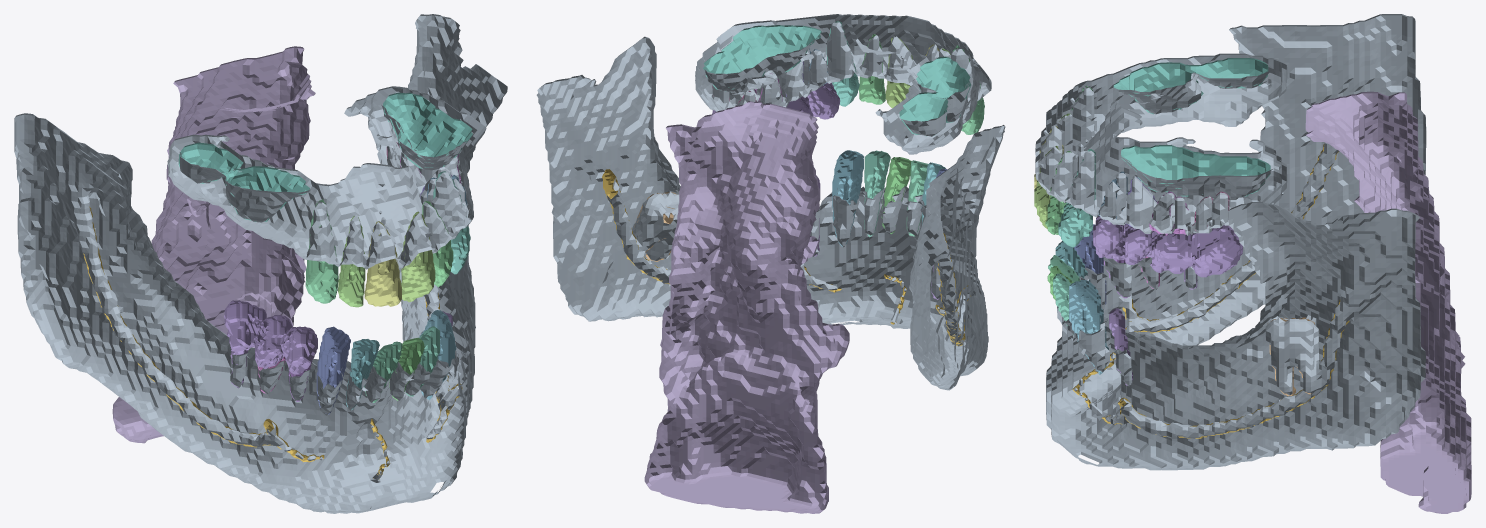
The model's file is ToothFairy3F_003.glb.
3 views of the same model, side by side, from view 1: azimuth 30°, elevation 25°; view 2: azimuth 150°, elevation 25°; view 3: azimuth 270°, elevation 25° (orthographic). The views are drawn at different scales.
Parts seen in each view (by area): view 1: jaws__1, airway__7, jaws__2, restorations__9, sinuses__5, sinuses__6, teeth__43, teeth__11, teeth__21, teeth__13, teeth__12, teeth__42 (+7 smaller); view 2: airway__7, jaws__1, jaws__2, sinuses__5, sinuses__6, teeth__33, restorations__9, teeth__32, teeth__31, teeth__22, teeth__41, teeth__23 (+1 smaller); view 3: jaws__1, jaws__2, airway__7, restorations__9, sinuses__5, sinuses__6, teeth__33, teeth__23, teeth__43, restorations__10, teeth__32, teeth__42 (+3 smaller).
Boxes of the visible parts, x1=… form: jaws__1: x1=14, y1=14, x2=507, y2=513; airway__7: x1=112, y1=46, x2=315, y2=443; jaws__2: x1=167, y1=86, x2=486, y2=269; restorations__9: x1=224, y1=225, x2=468, y2=374; sinuses__5: x1=383, y1=92, x2=472, y2=168; sinuses__6: x1=178, y1=142, x2=309, y2=221; teeth__43: x1=316, y1=326, x2=350, y2=414; teeth__11: x1=364, y1=221, x2=401, y2=306; teeth__21: x1=401, y1=211, x2=435, y2=302; teeth__13: x1=305, y1=199, x2=338, y2=303; teeth__12: x1=338, y1=216, x2=365, y2=307; teeth__42: x1=346, y1=339, x2=379, y2=410; airway__7: x1=644, y1=101, x2=849, y2=513; jaws__1: x1=536, y1=36, x2=1005, y2=390; jaws__2: x1=695, y1=14, x2=991, y2=154; sinuses__5: x1=703, y1=25, x2=821, y2=91; sinuses__6: x1=899, y1=56, x2=971, y2=136; teeth__33: x1=832, y1=150, x2=863, y2=246; restorations__9: x1=712, y1=82, x2=840, y2=119; teeth__32: x1=864, y1=150, x2=890, y2=237; teeth__31: x1=881, y1=157, x2=911, y2=233; teeth__22: x1=858, y1=34, x2=885, y2=104; teeth__41: x1=906, y1=160, x2=928, y2=236; teeth__23: x1=826, y1=21, x2=859, y2=106; jaws__1: x1=1046, y1=14, x2=1426, y2=470; jaws__2: x1=1035, y1=53, x2=1287, y2=235; airway__7: x1=1305, y1=91, x2=1471, y2=513; restorations__9: x1=1093, y1=216, x2=1242, y2=277; sinuses__5: x1=1121, y1=145, x2=1270, y2=196; sinuses__6: x1=1113, y1=58, x2=1268, y2=114; teeth__33: x1=1069, y1=280, x2=1108, y2=374; teeth__23: x1=1058, y1=149, x2=1095, y2=247; teeth__43: x1=1074, y1=224, x2=1106, y2=304; restorations__10: x1=1109, y1=271, x2=1197, y2=385; teeth__32: x1=1053, y1=273, x2=1073, y2=335; teeth__42: x1=1055, y1=241, x2=1090, y2=281.
Bounding box in the file's own units: 113 × 89.02 × 98.15.
